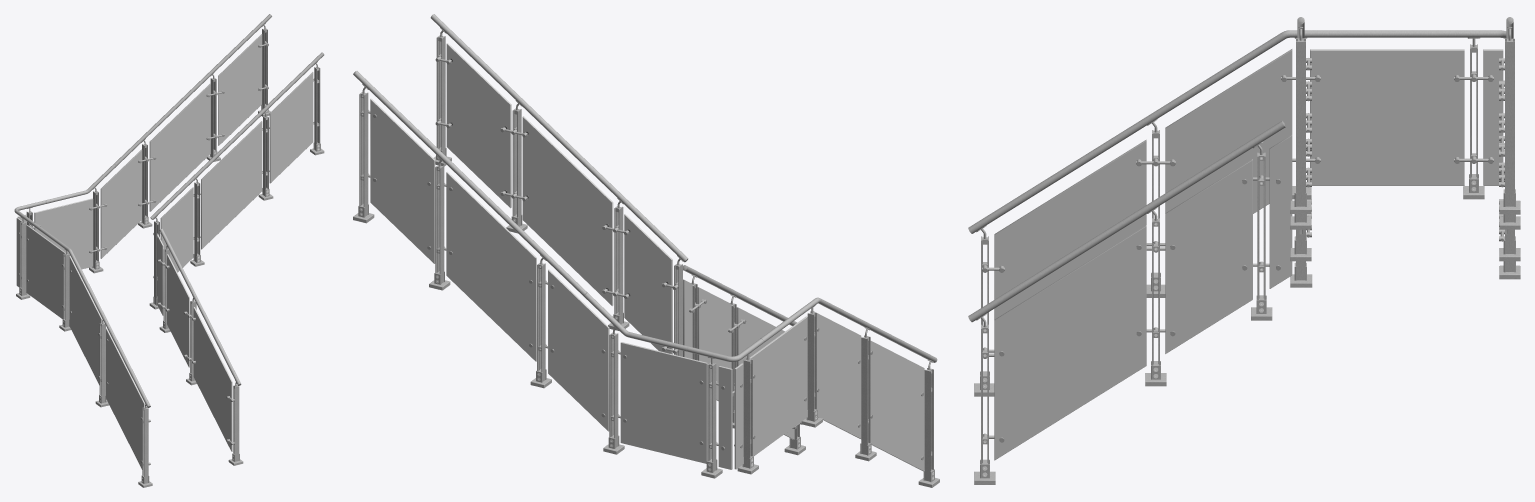
File: L-Shaped_Railing_Ferric_Glass.gltf
3 views of the same model, side by side, from view 1: azimuth 30°, elevation 25°; view 2: azimuth 150°, elevation 25°; view 3: azimuth 270°, elevation 25° (orthographic). The views are drawn at different scales.
Visible parts, largest first — view 1: Infill_Glass_Raked & Horizontal Generic [8902687], Infill_Glass_Raked & Horizontal Generic [8921260], Infill_Glass_Raked & Horizontal Generic [8902688], Infill_Glass_Raked & Horizontal Generic [8921261], Infill_Glass_Raked & Horizontal Generic [8921262], Infill_Glass_Raked & Horizontal Generic [8902690], Infill_Glass_Raked & Horizontal Generic [8922665], Infill_Glass_Raked & Horizontal Generic [8922375], Infill_Glass_Raked & Horizontal Generic [8921264], Infill_Glass_Raked & Horizontal Generic [8902689]001, Infill_Glass_Raked & Horizontal Generic [8902686], Infill_Glass_Raked & Horizontal Generic [8902689]002 (+11 smaller); view 2: Infill_Glass_Raked & Horizontal Generic [8902687], Infill_Glass_Raked & Horizontal Generic [8921260], Infill_Glass_Raked & Horizontal Generic [8921264], Infill_Glass_Raked & Horizontal Generic [8921261], Infill_Glass_Raked & Horizontal Generic [8902688], Infill_Glass_Raked & Horizontal Generic [8921262], Infill_Glass_Raked & Horizontal Generic [8922665], Infill_Glass_Raked & Horizontal Generic [8922375], Infill_Glass_Raked & Horizontal Generic [8902686], Infill_Glass_Raked & Horizontal Generic [8902689]001, Infill_Glass_Raked & Horizontal Generic [8902689]002, Nested_Rail LS Material [8461322] (+15 smaller); view 3: Infill_Glass_Raked & Horizontal Generic [8902690], Infill_Glass_Raked & Horizontal Generic [8922375], Infill_Glass_Raked & Horizontal Generic [8902689]002, Infill_Glass_Raked & Horizontal Generic [8922665], Infill_Glass_Raked & Horizontal Generic [8902689]001, Infill_Glass_Raked & Horizontal Generic [8902689], Nested_Bend Bend [8719267]002, Nested_Rail LS Material [8719249], Infill_Glass_Raked & Horizontal Generic [8923304], Nested_Bend Bend [8719267], FER008 - Ferric Post Material Part [8913781], FER008 - Ferric Post Material Part [8913558].
Boxes of the visible parts, box(x1,y1,x2,y2) form: Infill_Glass_Raked & Horizontal Generic [8902687]: box(201, 121, 262, 249); Infill_Glass_Raked & Horizontal Generic [8921260]: box(149, 83, 210, 211); Infill_Glass_Raked & Horizontal Generic [8902688]: box(269, 72, 313, 183); Infill_Glass_Raked & Horizontal Generic [8921261]: box(218, 34, 262, 145); Infill_Glass_Raked & Horizontal Generic [8921262]: box(100, 149, 142, 258); Infill_Glass_Raked & Horizontal Generic [8902690]: box(193, 307, 232, 451); Infill_Glass_Raked & Horizontal Generic [8922665]: box(106, 328, 145, 469); Infill_Glass_Raked & Horizontal Generic [8922375]: box(26, 225, 65, 318); Infill_Glass_Raked & Horizontal Generic [8921264]: box(34, 198, 93, 269); Infill_Glass_Raked & Horizontal Generic [8902689]001: box(69, 256, 102, 385); Infill_Glass_Raked & Horizontal Generic [8902686]: box(160, 187, 193, 272); Infill_Glass_Raked & Horizontal Generic [8902689]002: box(167, 254, 189, 367); Infill_Glass_Raked & Horizontal Generic [8902687]: box(522, 116, 613, 305); Infill_Glass_Raked & Horizontal Generic [8921260]: box(446, 171, 536, 361); Infill_Glass_Raked & Horizontal Generic [8921264]: box(620, 342, 707, 463); Infill_Glass_Raked & Horizontal Generic [8921261]: box(370, 98, 435, 263); Infill_Glass_Raked & Horizontal Generic [8902688]: box(446, 43, 511, 208); Infill_Glass_Raked & Horizontal Generic [8921262]: box(548, 269, 609, 431); Infill_Glass_Raked & Horizontal Generic [8922665]: box(870, 341, 924, 471); Infill_Glass_Raked & Horizontal Generic [8922375]: box(749, 316, 807, 455); Infill_Glass_Raked & Horizontal Generic [8902686]: box(624, 214, 672, 354); Infill_Glass_Raked & Horizontal Generic [8902689]001: box(813, 311, 861, 438); Infill_Glass_Raked & Horizontal Generic [8902689]002: box(697, 287, 731, 401); Nested_Rail LS Material [8461322]: box(431, 14, 687, 261); Infill_Glass_Raked & Horizontal Generic [8902690]: box(994, 225, 1146, 460); Infill_Glass_Raked & Horizontal Generic [8922375]: box(1310, 49, 1464, 185); Infill_Glass_Raked & Horizontal Generic [8902689]002: box(1165, 159, 1252, 353); Infill_Glass_Raked & Horizontal Generic [8922665]: box(994, 139, 1146, 319); Infill_Glass_Raked & Horizontal Generic [8902689]001: box(1165, 49, 1292, 213); Infill_Glass_Raked & Horizontal Generic [8902689]: box(1269, 134, 1292, 288); Nested_Bend Bend [8719267]002: box(968, 121, 1284, 321); Nested_Rail LS Material [8719249]: box(968, 64, 1234, 233); Infill_Glass_Raked & Horizontal Generic [8923304]: box(1483, 49, 1503, 185); Nested_Bend Bend [8719267]: box(1232, 30, 1437, 69); FER008 - Ferric Post Material Part [8913781]: box(1505, 41, 1514, 206); FER008 - Ferric Post Material Part [8913558]: box(1296, 41, 1305, 206).
Bounding box in the file's own units: 3.05 × 3.48 × 2.79.
